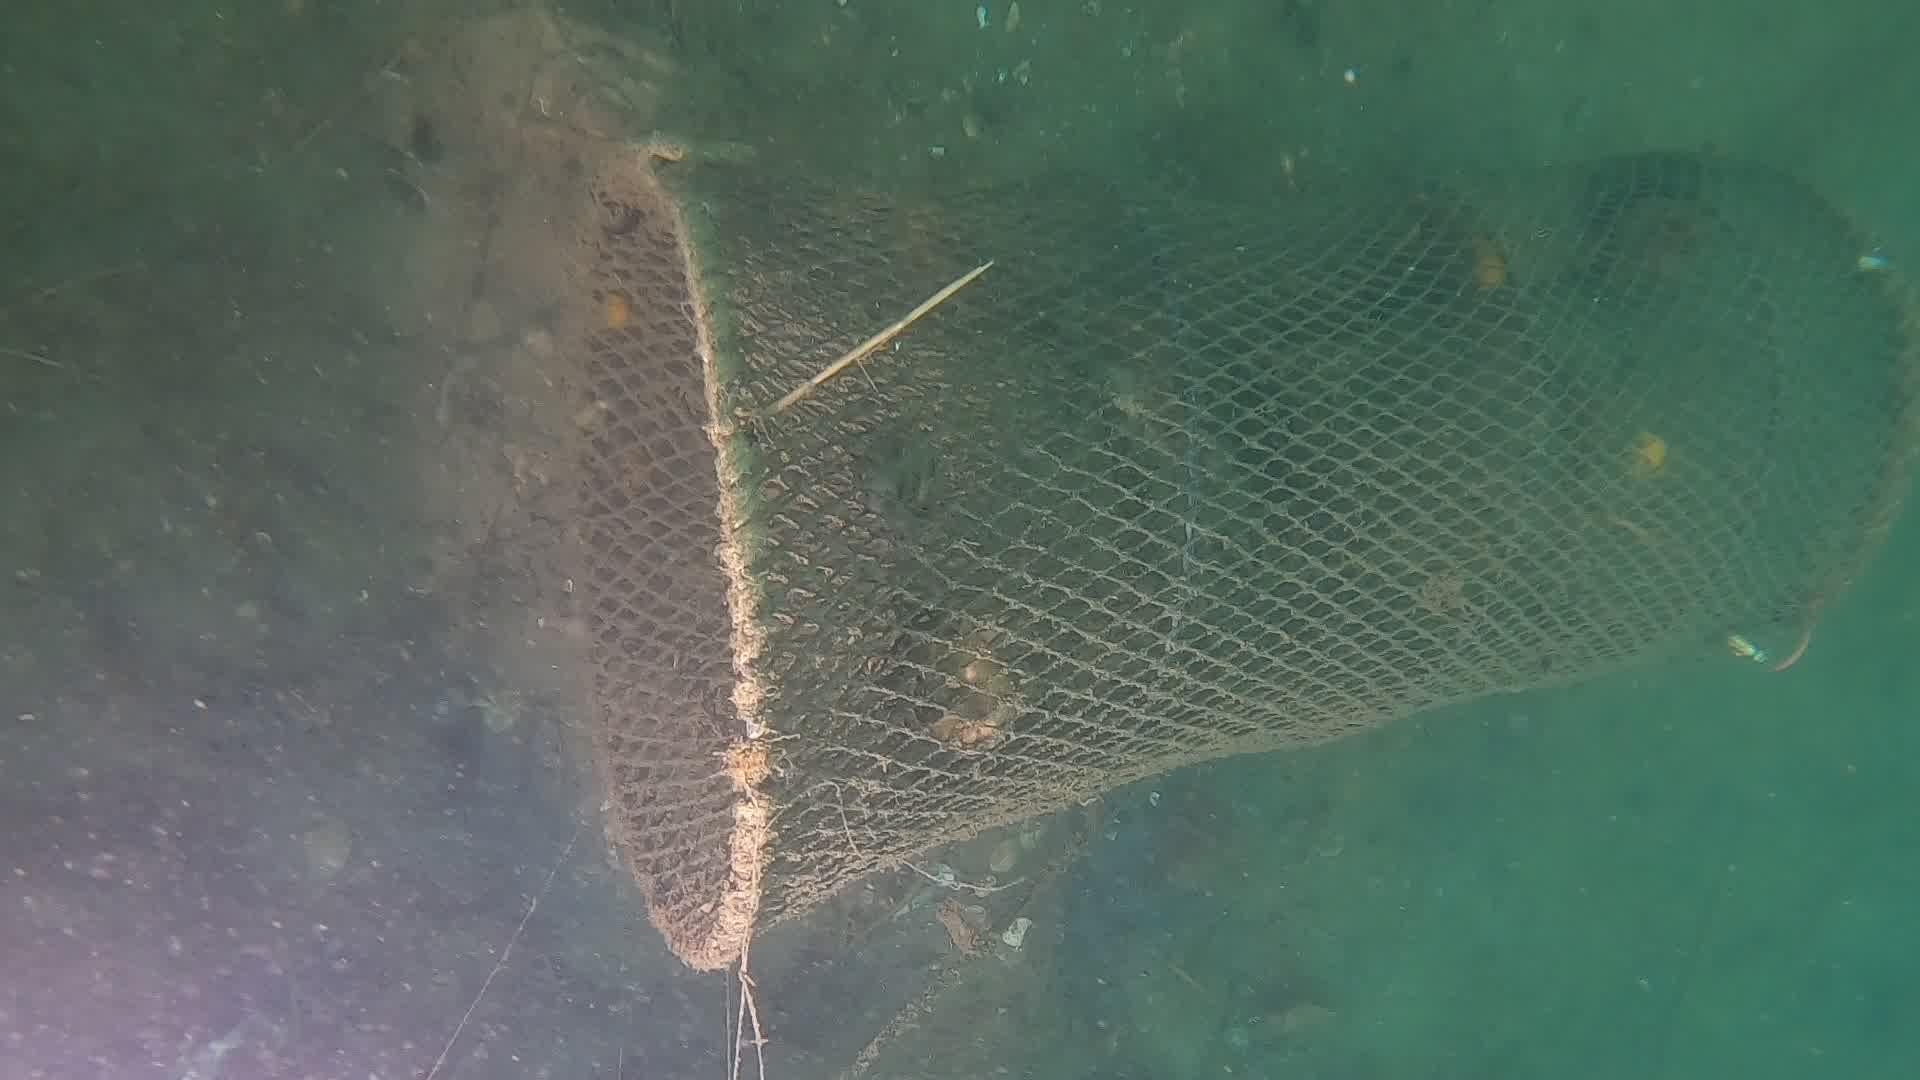spring fish trap: (553, 127, 1920, 973)
